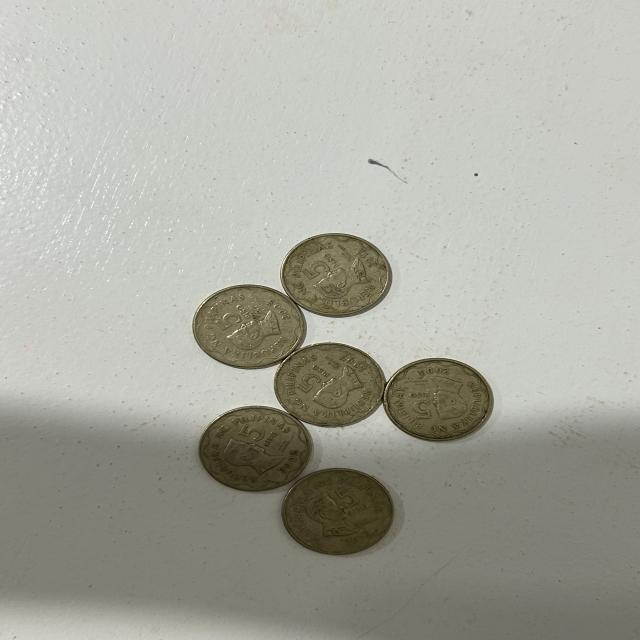5_Old_Front: (209, 302, 268, 338), (286, 359, 338, 398), (394, 385, 440, 423), (330, 483, 373, 520), (239, 420, 291, 450), (298, 250, 338, 282)
